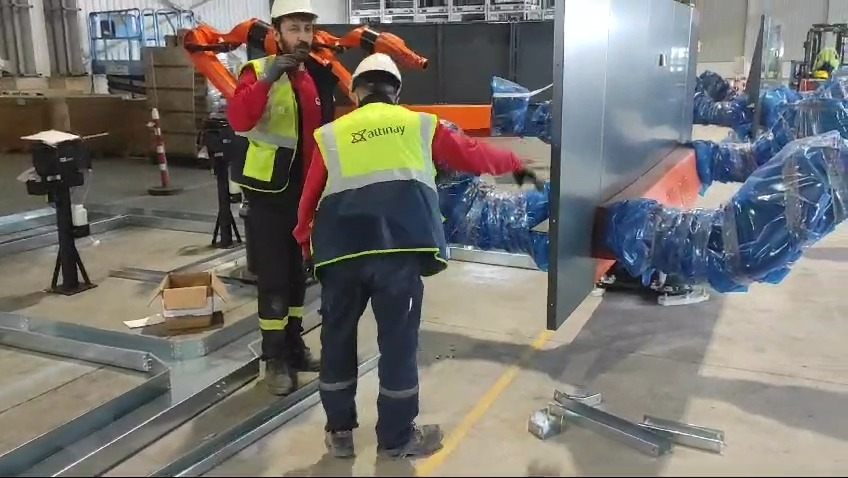safety_helmet: (349, 52, 403, 104), (269, 0, 319, 23)
